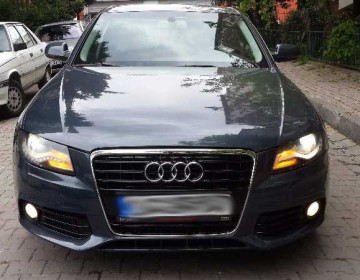audi: (142, 158, 204, 189)
